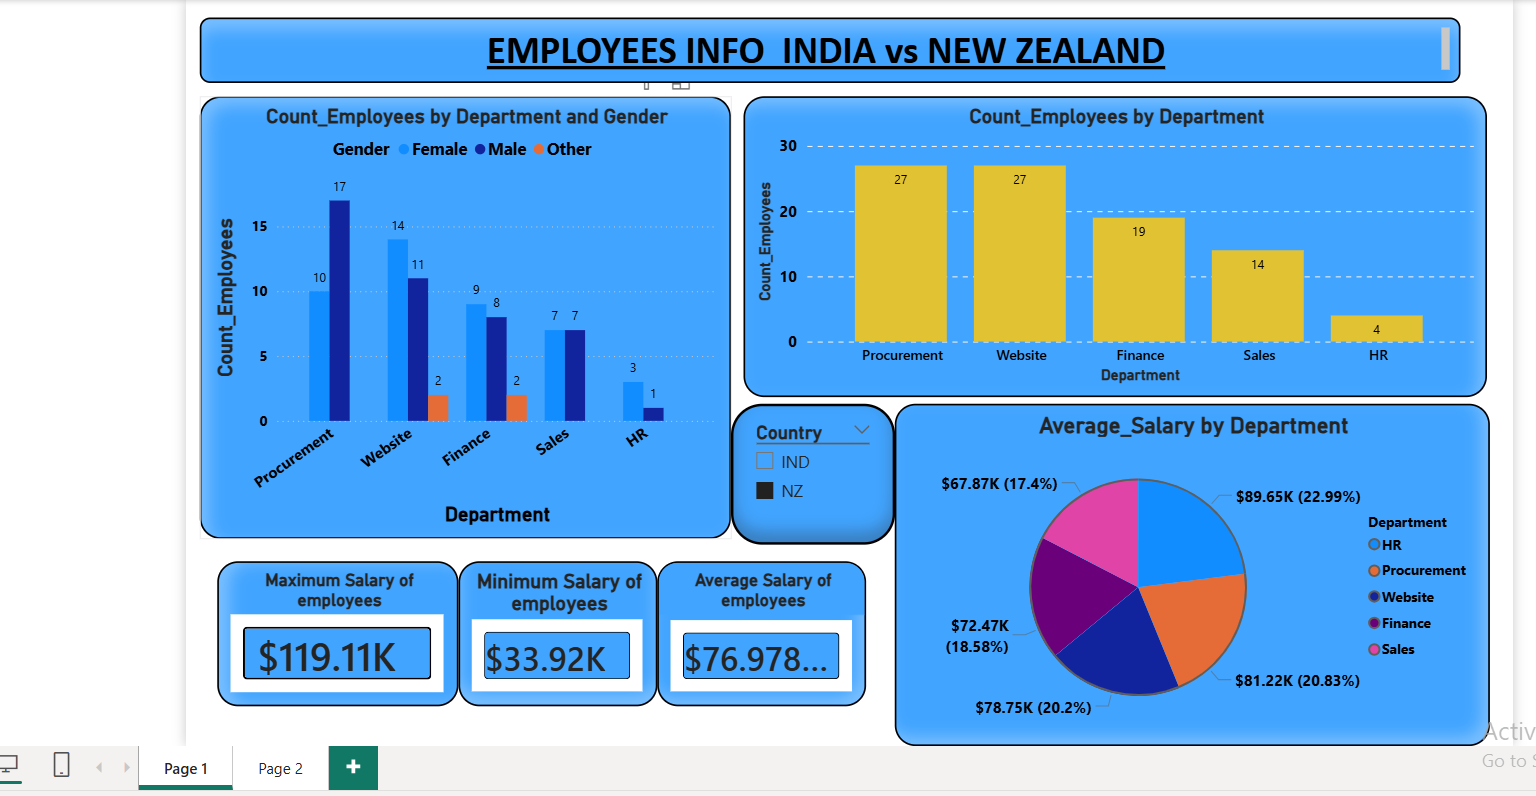

The dashboard page shown, as its layout file describes it:
{"tool":"powerbi","page":{"name":"Page 1","canvas":[1280,720],"ordinal":0},"visuals":[{"type":"columnChart","fields":{"Category":["Data.Department"],"Y":["Data.Count_rows"]},"box":[538.1,92.9,717.8,290.8],"z":0},{"type":"clusteredColumnChart","fields":{"Category":["Data.Department"],"Y":["Data.Count_Employees"],"Series":["Data.Gender"]},"box":[13.3,92.9,512.7,427.1],"z":2},{"type":"pieChart","fields":{"Category":["Data.Department"],"Y":["Data.Average_Salary"]},"box":[684.1,389.7,574.3,330.6],"z":3},{"type":"textbox","box":[13.7,16.5,1217.2,63.1],"z":6},{"type":"cardVisual","title":"Minimum Salary of employees","fields":{"Data":["Data.Minimum_Salary"]},"box":[263,541.7,191.8,139.9],"z":8},{"type":"slicer","fields":{"Values":["Data.Country"]},"box":[526,389.7,158,136.3],"z":9},{"type":"cardVisual","title":"Average Salary of employees","fields":{"Data":["Data.Average_Salary"]},"box":[454.8,541.7,201.5,139.9],"z":10},{"type":"cardVisual","title":"Maximum Salary of employees","fields":{"Data":["Data.Maximum_Salary"]},"box":[30.2,541.7,232.8,139.9],"z":11}]}

Visuals, with their boxes on the page's 1280x720 design canvas (x1, y1, x2, y2). These are canvas units, not pixel positions in the 1536x796 screenshot, which may show the page scaled, cropped or inside an application window:
columnChart - Data.Department x Data.Count_rows: 538,93,1256,384
clusteredColumnChart - Data.Department x Data.Count_Employees: 13,93,526,520
pieChart - Data.Department x Data.Average_Salary: 684,390,1258,720
textbox: 14,16,1231,80
"Minimum Salary of employees" cardVisual: 263,542,455,682
slicer - Data.Country: 526,390,684,526
"Average Salary of employees" cardVisual: 455,542,656,682
"Maximum Salary of employees" cardVisual: 30,542,263,682
